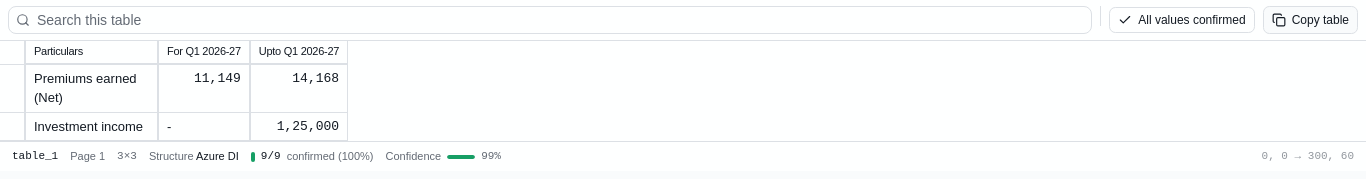
Test: TableViewer › search › steps through matches
The image size is (1366, 179).
Type "Q1" into the field labelled "Search this table".
click(550, 20); type("Q1")  # box [8, 6, 1092, 34]
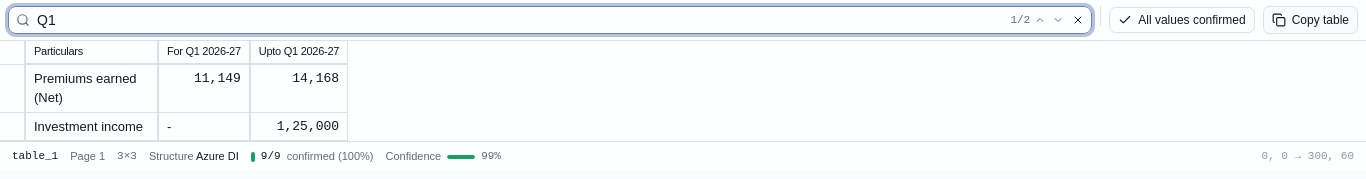
Click the button named "Next match".
click(1058, 20)  # box [1050, 12, 1066, 28]
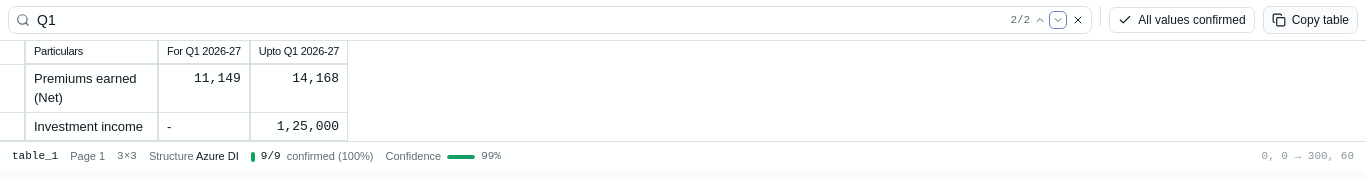
Expected: the text "2/2" is shown, [1010, 12, 1030, 28]
Wraps around.
Click the button named "Next match".
click(1058, 20)  # box [1050, 12, 1066, 28]
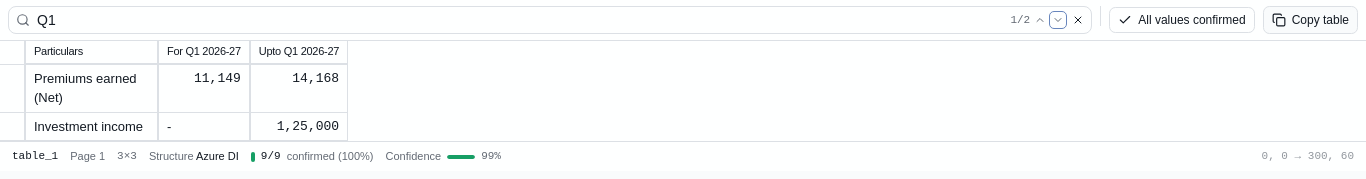
Expected: the text "1/2" is shown, [1010, 12, 1030, 28]
